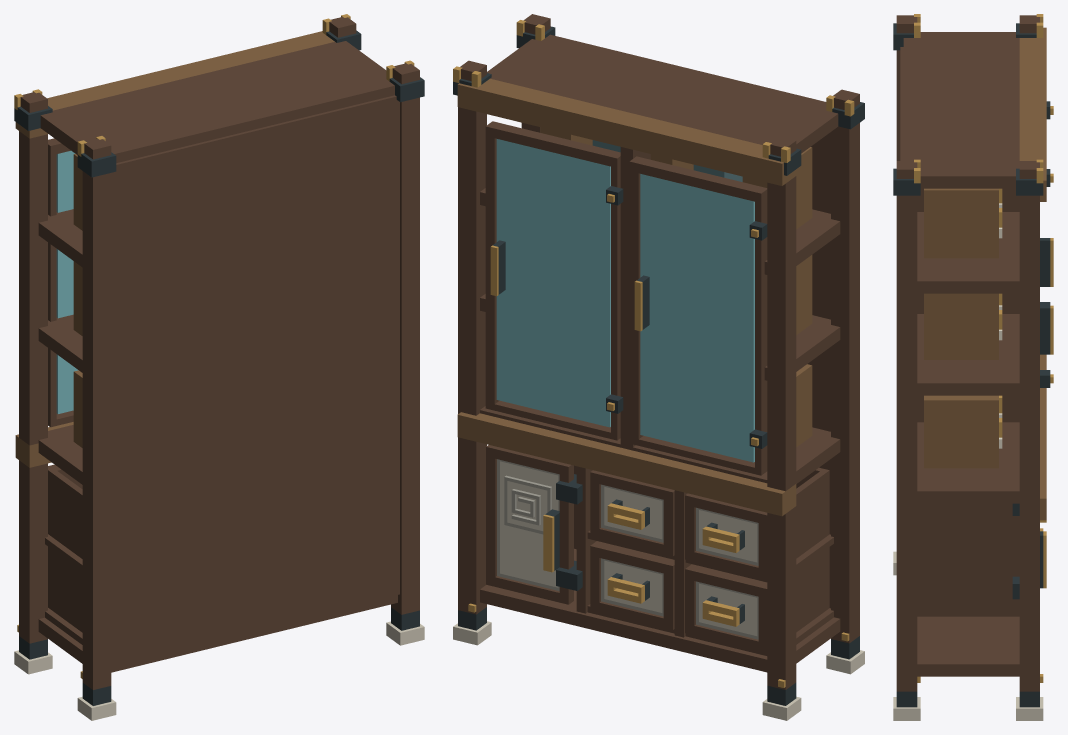
File: LIFE-116.glb
The picture shows the model from 3 angles, left to right: view 1: azimuth 30°, elevation 25°; view 2: azimuth 150°, elevation 25°; view 3: azimuth 270°, elevation 25°; orthographic projection. The views are drawn at different scales.
Visible parts, largest first — view 1: 科研资料柜; view 2: 科研资料柜; view 3: 科研资料柜.
Part boxes in pixels (left/top/right/bottom): 科研资料柜: left=14, top=14, right=424, bottom=720; 科研资料柜: left=453, top=14, right=864, bottom=720; 科研资料柜: left=893, top=14, right=1053, bottom=720.
Bounding box in the file's own units: 1.09 × 1.78 × 0.47.
9 materials, 9 textured.
